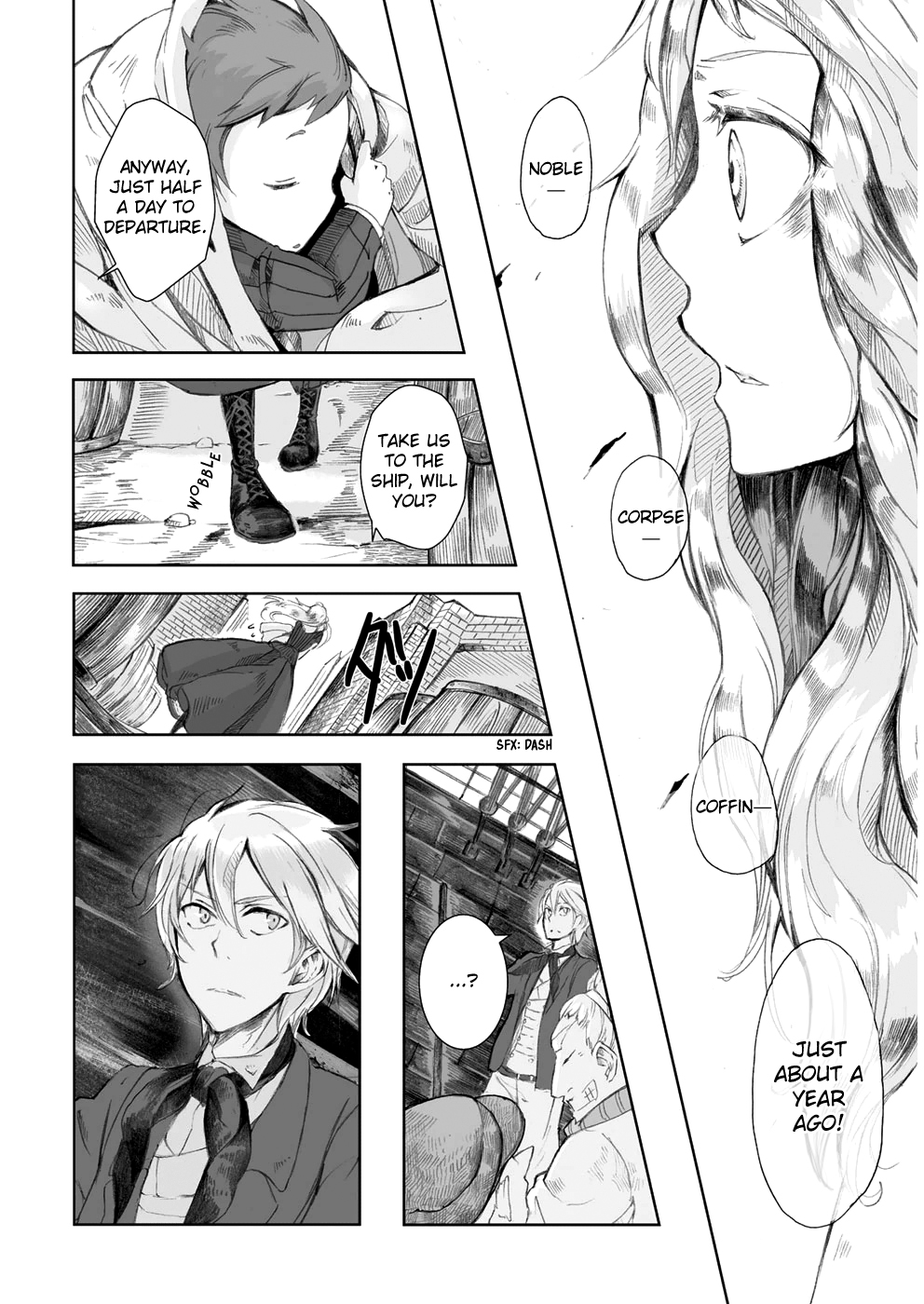bubble: (751, 938, 885, 1229), (95, 96, 216, 302), (359, 384, 469, 551), (691, 734, 780, 875), (419, 916, 512, 1049), (521, 96, 593, 240), (610, 456, 692, 581)
